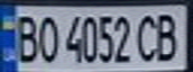0: (81, 12, 100, 64)
2: (112, 11, 136, 64)
4: (60, 11, 84, 64)
5: (96, 12, 115, 64)
B: (9, 10, 42, 64), (151, 9, 184, 63)
C: (133, 10, 163, 63)
O: (33, 11, 60, 64)
